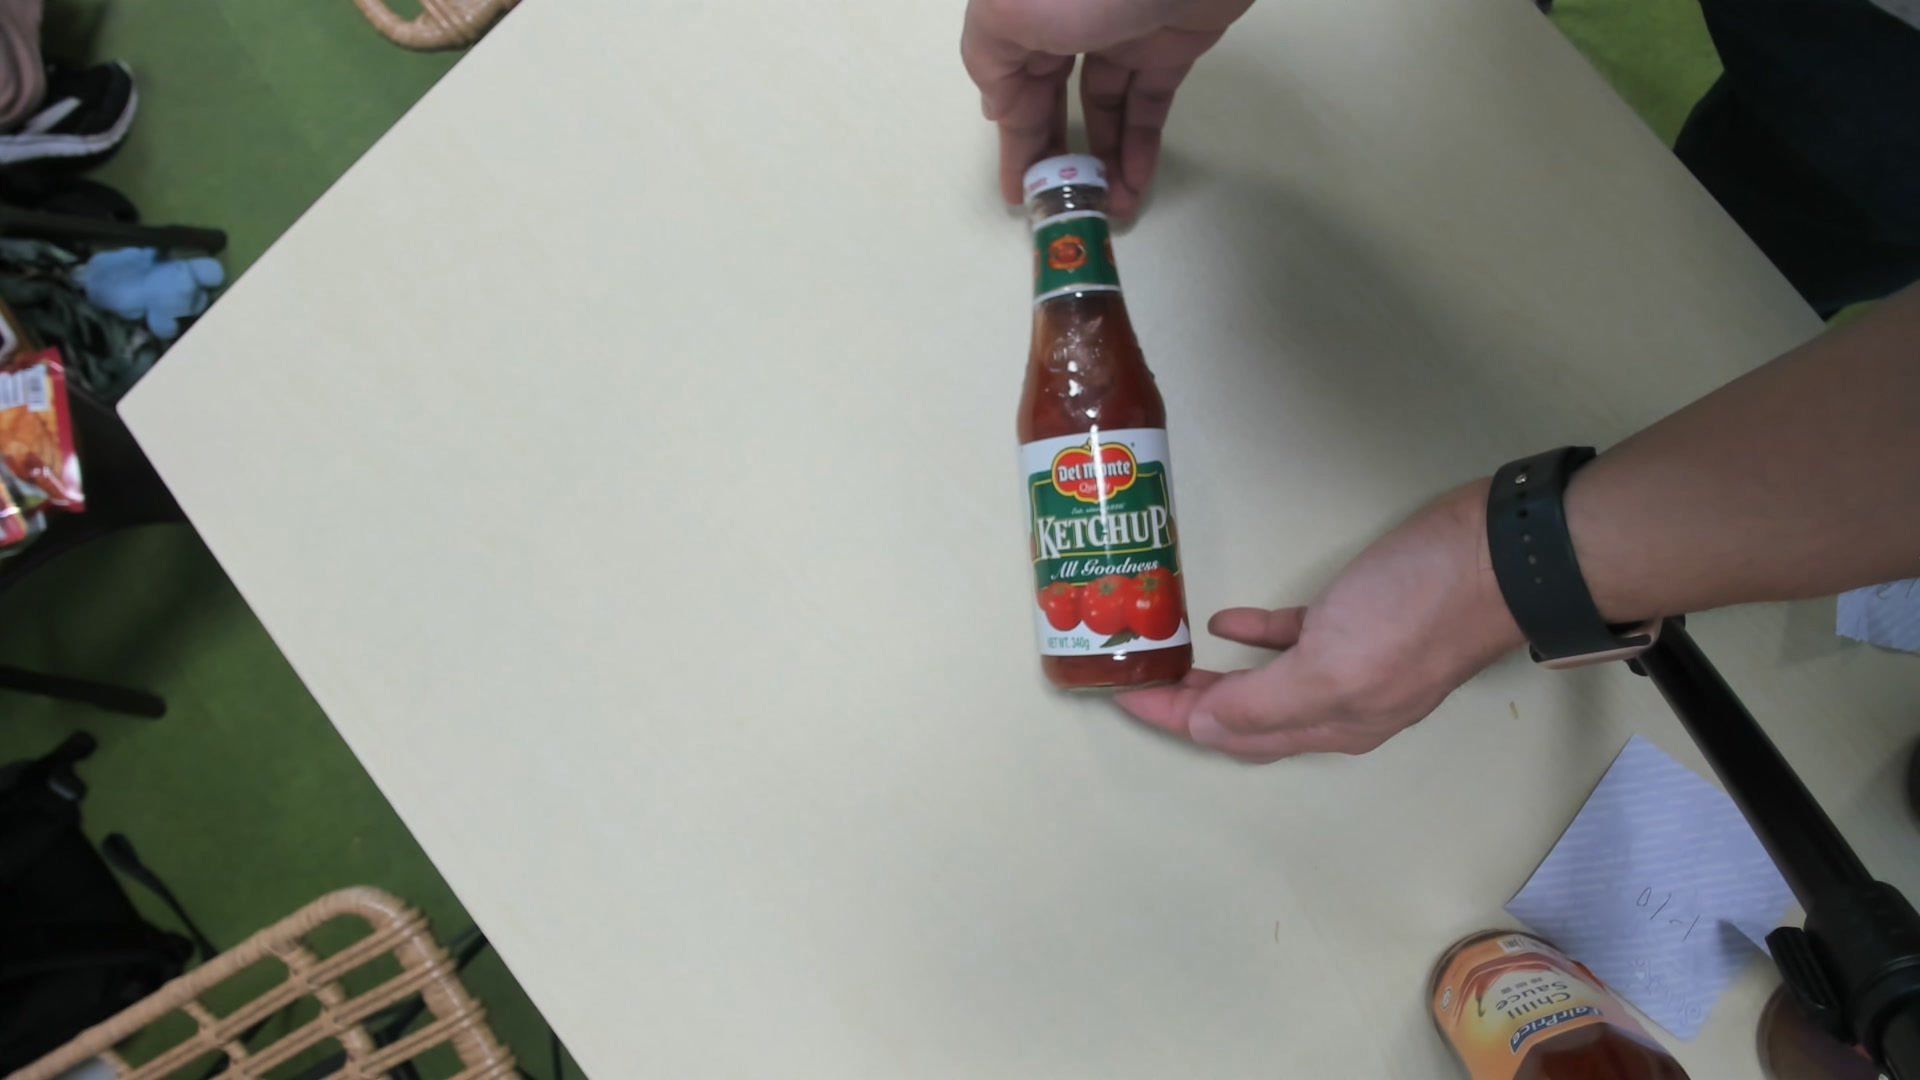KetchupChillSauce_300-399g_Halal_NonHealthy: (1013, 152, 1197, 690)
